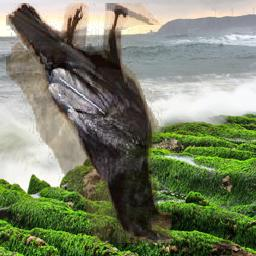Crow: (6, 3, 172, 243)
